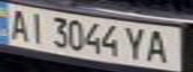0: (66, 17, 84, 52)
3: (45, 15, 69, 49)
4: (100, 21, 124, 59), (81, 20, 103, 55)
A: (142, 27, 175, 65), (3, 6, 33, 42)
I: (24, 10, 48, 44)
Y: (121, 25, 151, 61)
